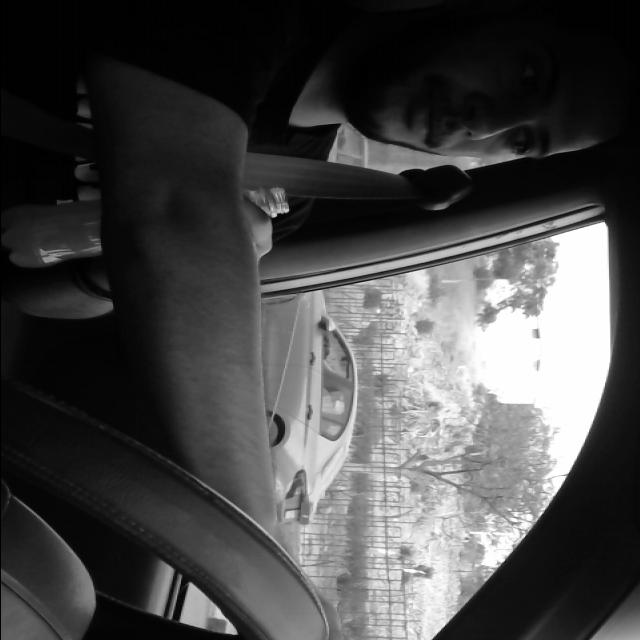drinking: (0, 174, 288, 272)
